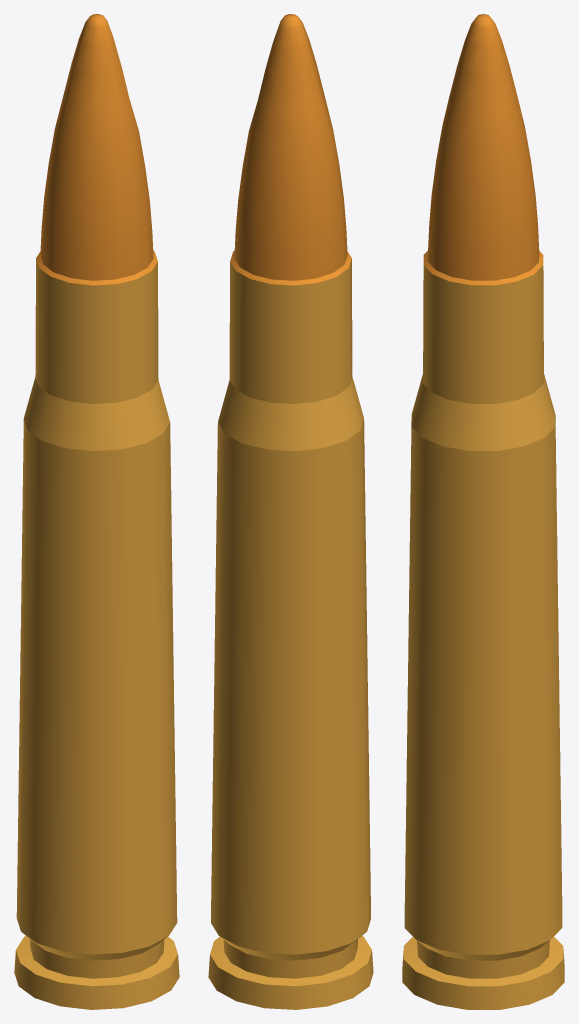
File: ammo8-food.fbx
3 renders of one model, left to right at view 1: azimuth 30°, elevation 25°; view 2: azimuth 150°, elevation 25°; view 3: azimuth 270°, elevation 25°, orthographic.
Parts seen in each view (by area): view 1: ammo8-food; view 2: ammo8-food; view 3: ammo8-food.
Boxes of the visible parts, <box> form: ammo8-food: <box>14,14,179,1009</box>; ammo8-food: <box>208,14,373,1009</box>; ammo8-food: <box>402,14,564,1009</box>.
Bounding box in the file's own units: 0.0212 × 0.1382 × 0.0212.
